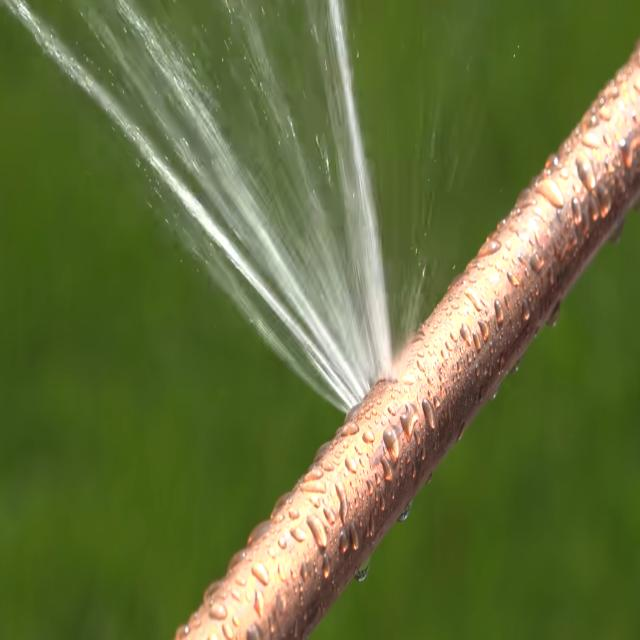leak: (5, 0, 391, 409)
